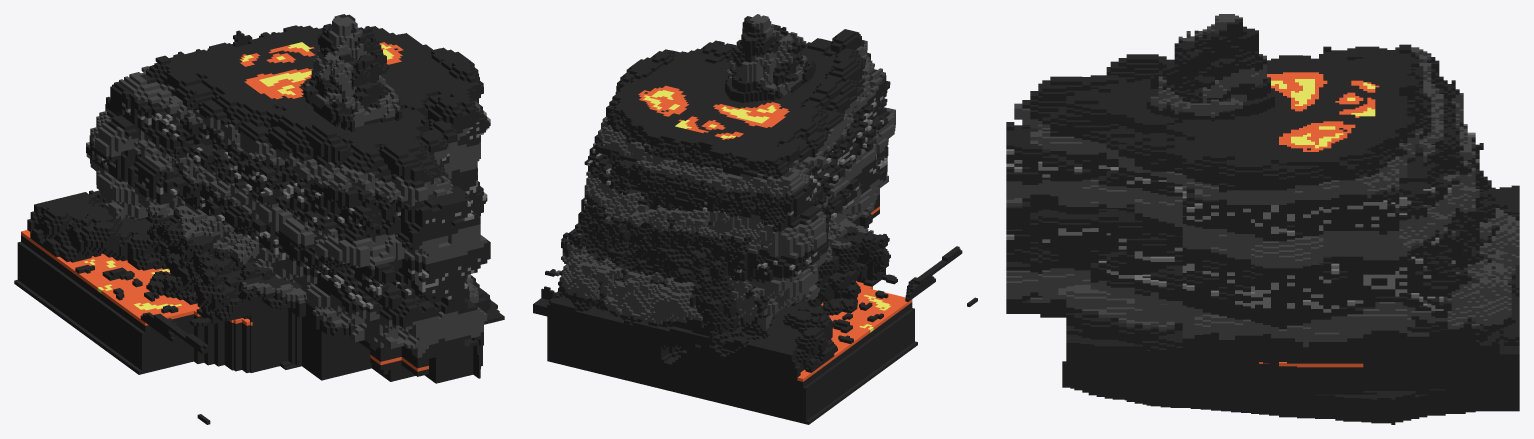
Rendered from Lava_stuff-39.obj.
The picture shows the model from 3 angles, left to right: view 1: azimuth 30°, elevation 25°; view 2: azimuth 150°, elevation 25°; view 3: azimuth 270°, elevation 25°; orthographic projection. The views are drawn at different scales.
Bounding box in the file's own units: 20.8 × 18.6 × 25.6.
1 material, 1 textured.
